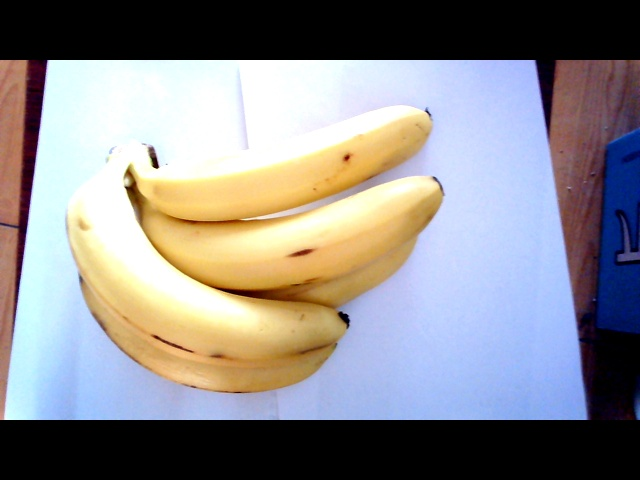banana: (63, 110, 438, 390)
